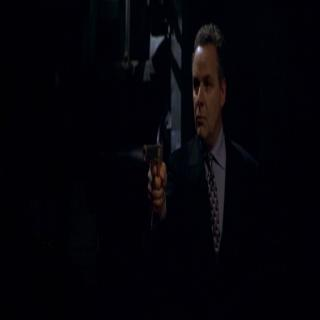gun: (142, 139, 164, 211)
